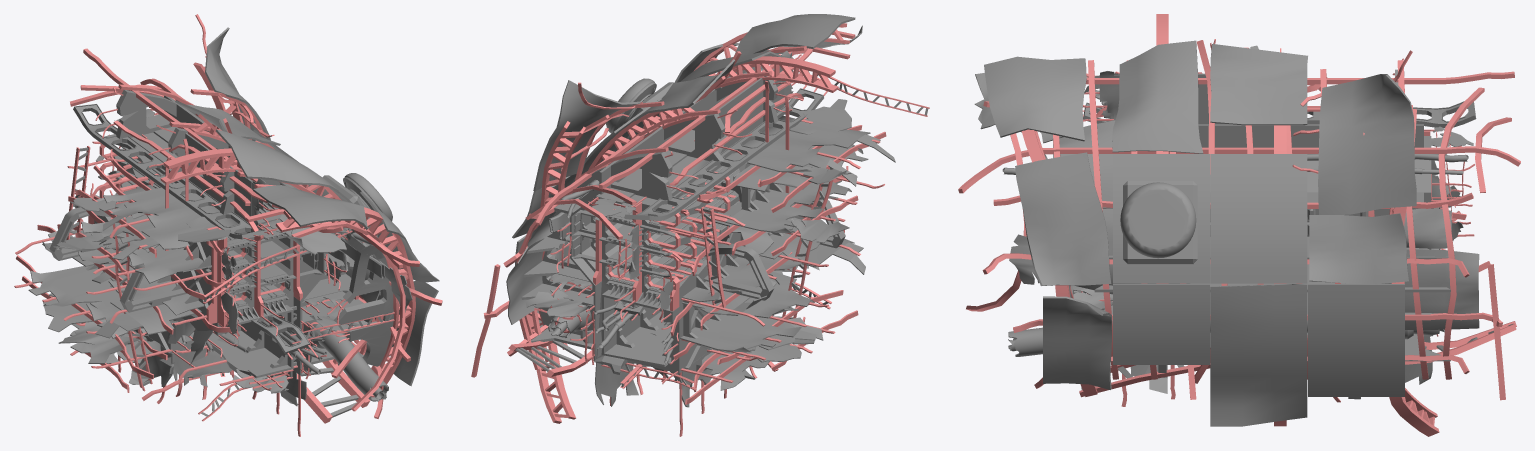
Rendered from SM_CommunicationShip_01.gltf.
3 renders of one model, left to right at view 1: azimuth 30°, elevation 25°; view 2: azimuth 150°, elevation 25°; view 3: azimuth 270°, elevation 25°, orthographic. The views are drawn at different scales.
Visible parts, largest first — view 1: SM_CommunicationShip_01; view 2: SM_CommunicationShip_01; view 3: SM_CommunicationShip_01.
Part boxes in pixels (bbox=[...]): SM_CommunicationShip_01: bbox=[14, 14, 442, 436]; SM_CommunicationShip_01: bbox=[471, 14, 929, 436]; SM_CommunicationShip_01: bbox=[958, 14, 1520, 436].
Size of the model in its own units: 573 by 616 by 828.
